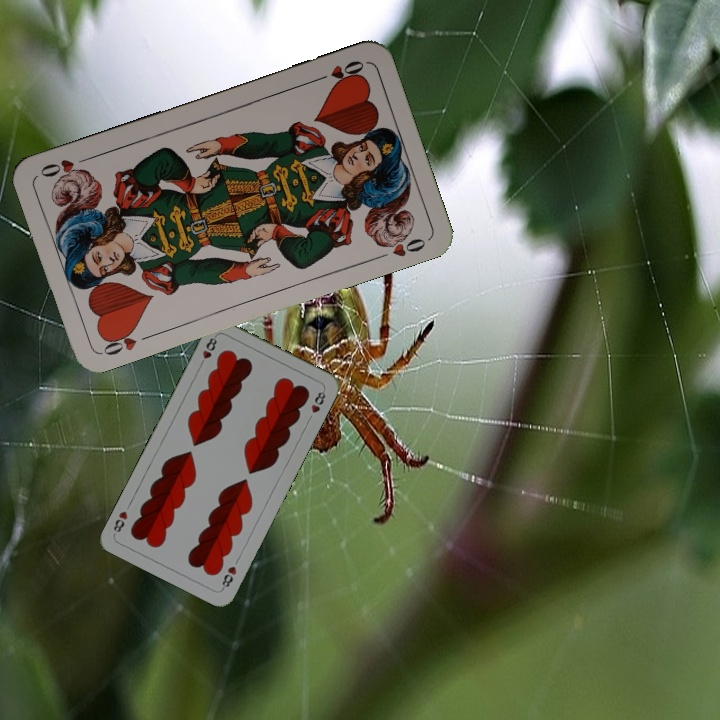H8: (196, 331, 220, 369), (218, 562, 239, 592)
HO: (97, 324, 155, 358), (310, 56, 367, 87)
